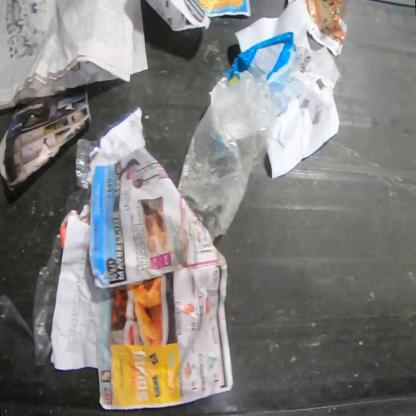soft_plastic: (177, 71, 277, 237), (0, 234, 63, 366), (224, 31, 301, 119), (66, 138, 98, 214)
